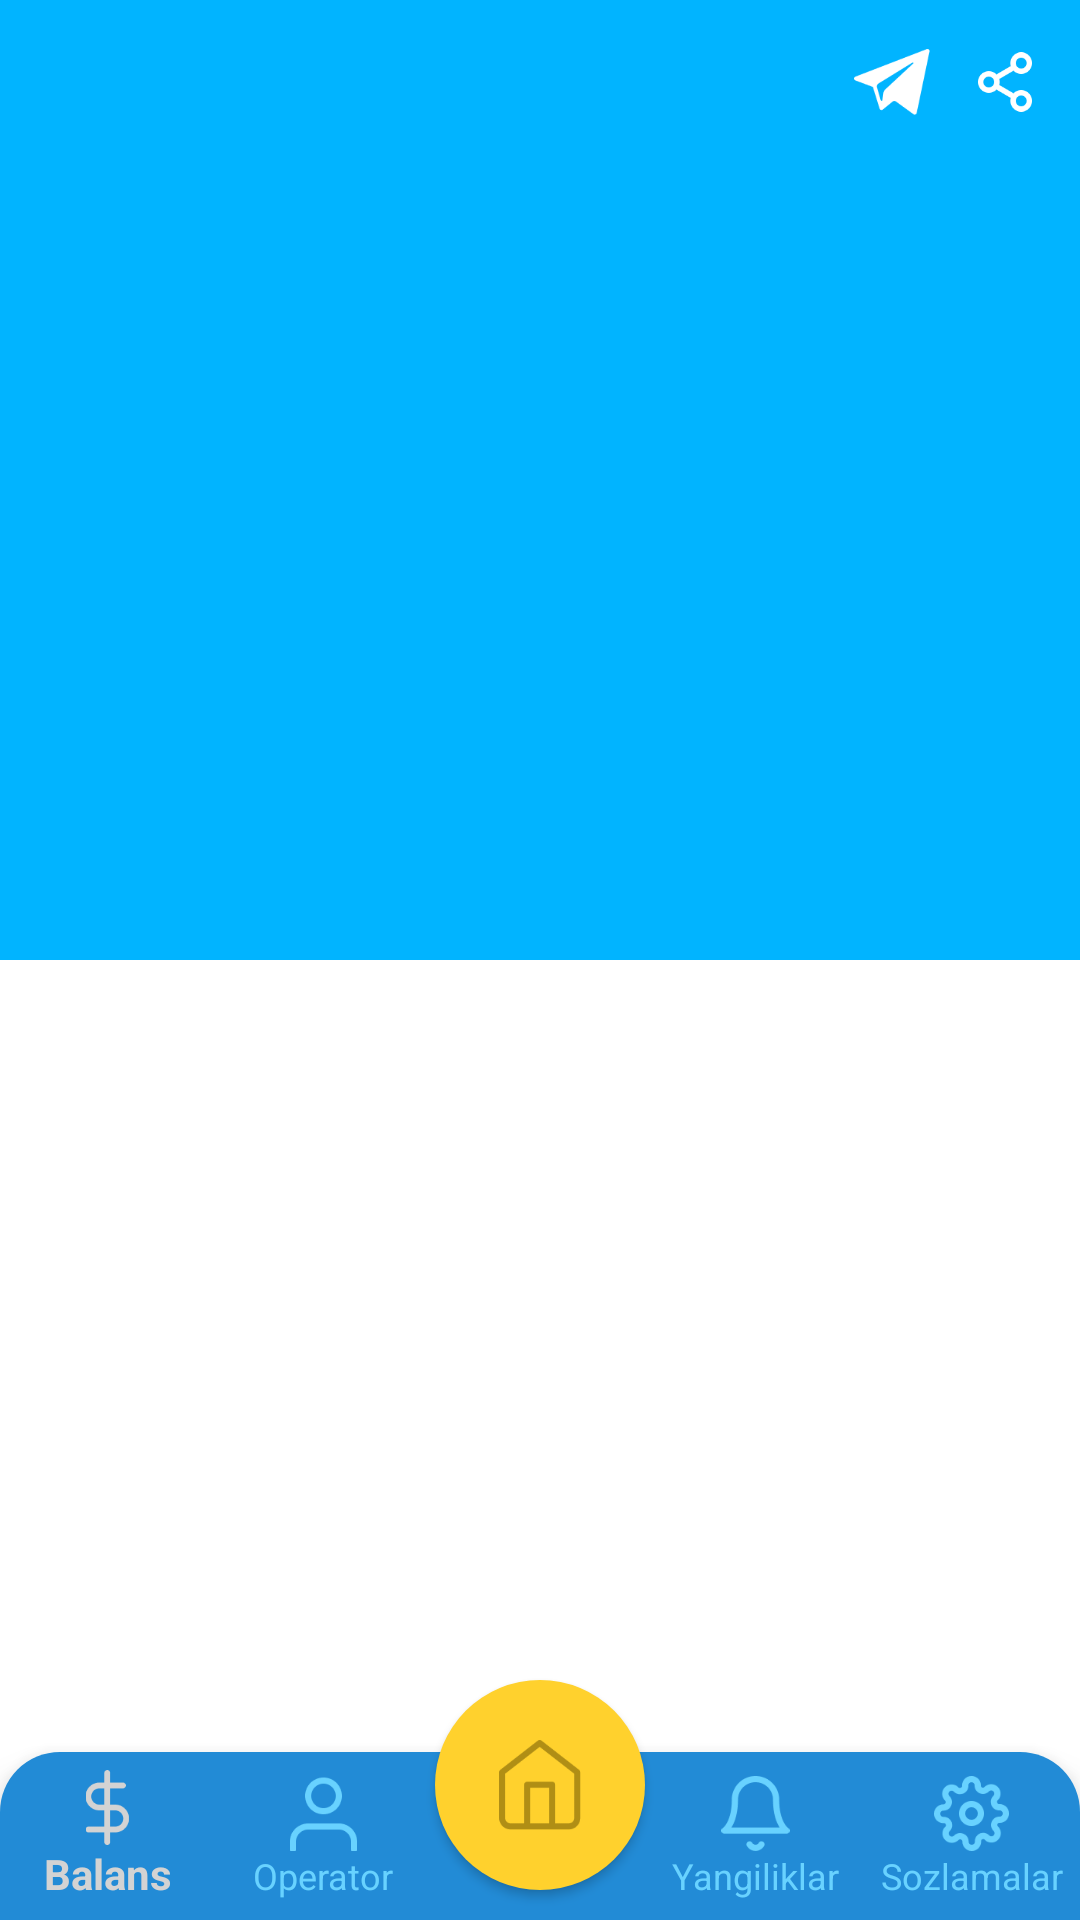

Icons on this 1080*1920 Android screen, each with the point to tap as [x,y]:
home: [540,1785]
share: [1005,82]
